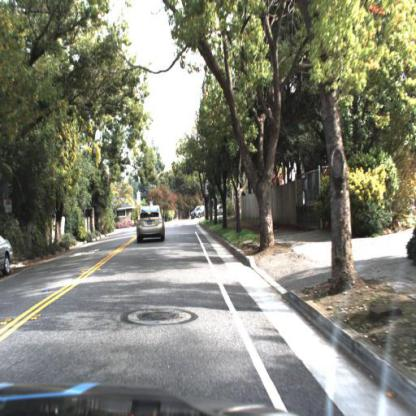car: (136, 202, 165, 242), (1, 233, 17, 280), (191, 205, 206, 222)
